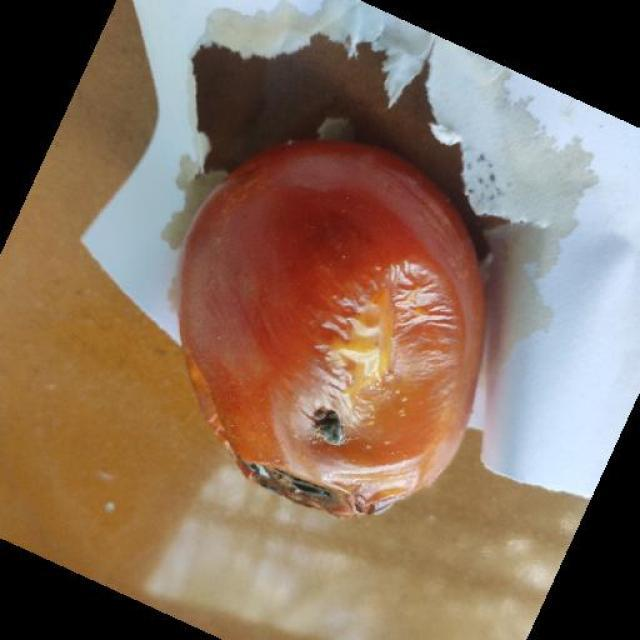Rotten Tomato: (172, 127, 522, 536)
